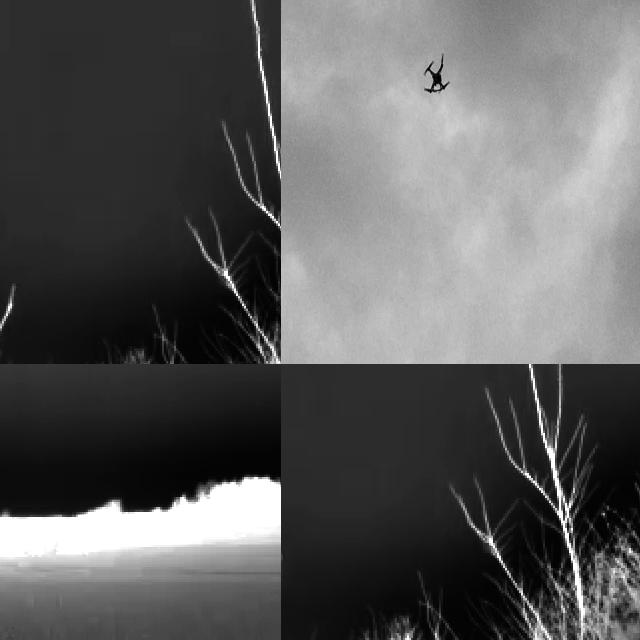drone: (421, 52, 451, 100)
